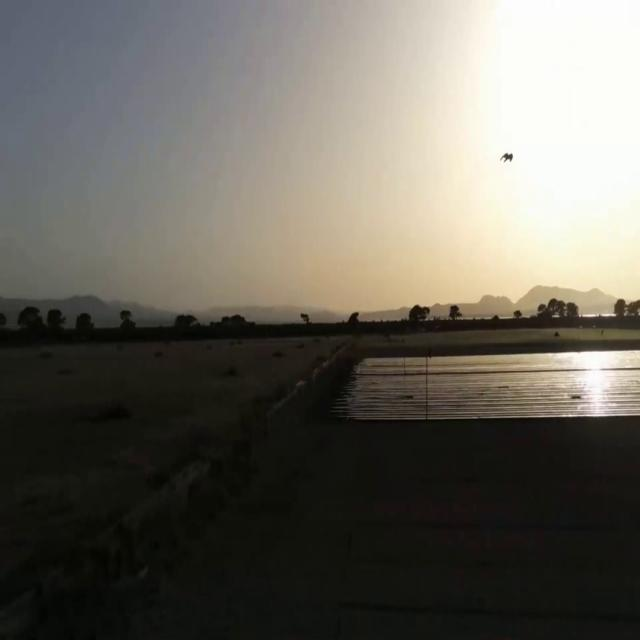bird: (500, 141, 514, 169)
